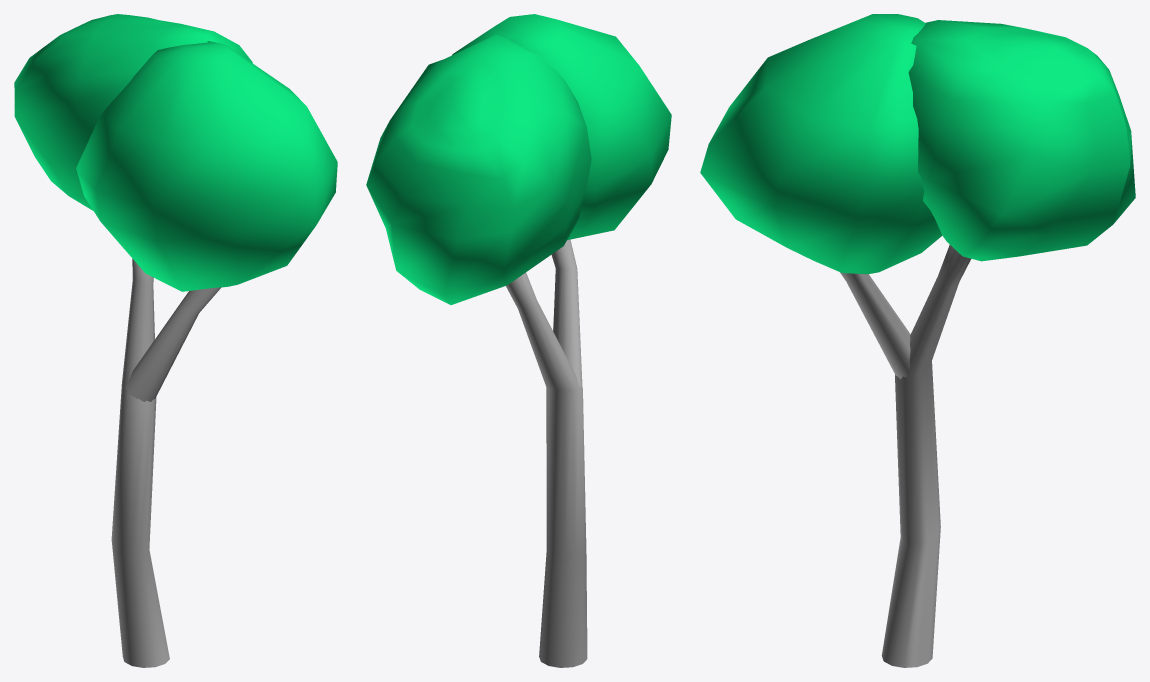
The model's file is Tree2.fbx.
The picture shows the model from 3 angles, left to right: view 1: azimuth 30°, elevation 25°; view 2: azimuth 150°, elevation 25°; view 3: azimuth 270°, elevation 25°; orthographic projection. The views are drawn at different scales.
Parts seen in each view (by area): view 1: Tree2; view 2: Tree2; view 3: Tree2.
Boxes of the visible parts, box(x1,y1,x2,y2) form: Tree2: box(14, 14, 337, 667); Tree2: box(366, 14, 671, 667); Tree2: box(700, 14, 1135, 667).
Bounding box in the file's own units: 142 × 372 × 225.
